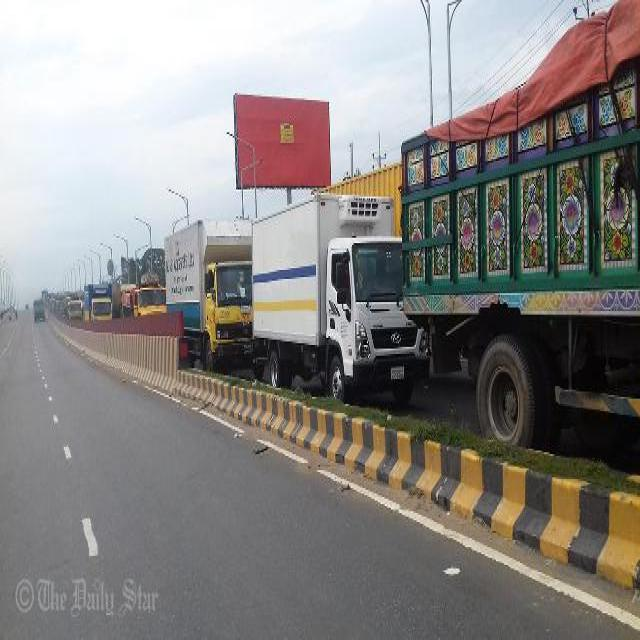motorcycle: (8, 311, 10, 318), (15, 309, 17, 315)
truck: (399, 50, 638, 447), (251, 186, 429, 399), (163, 213, 264, 375), (121, 282, 166, 313), (82, 279, 111, 316), (65, 295, 81, 316), (33, 297, 45, 318)
